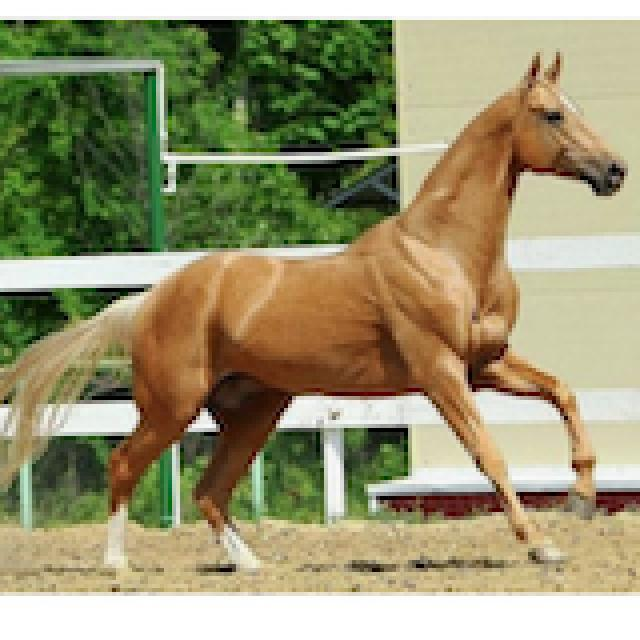Horse: (0, 44, 636, 576)
